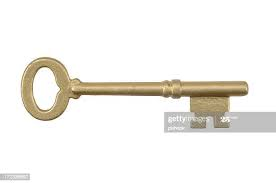kicharina: (16, 54, 252, 134)
